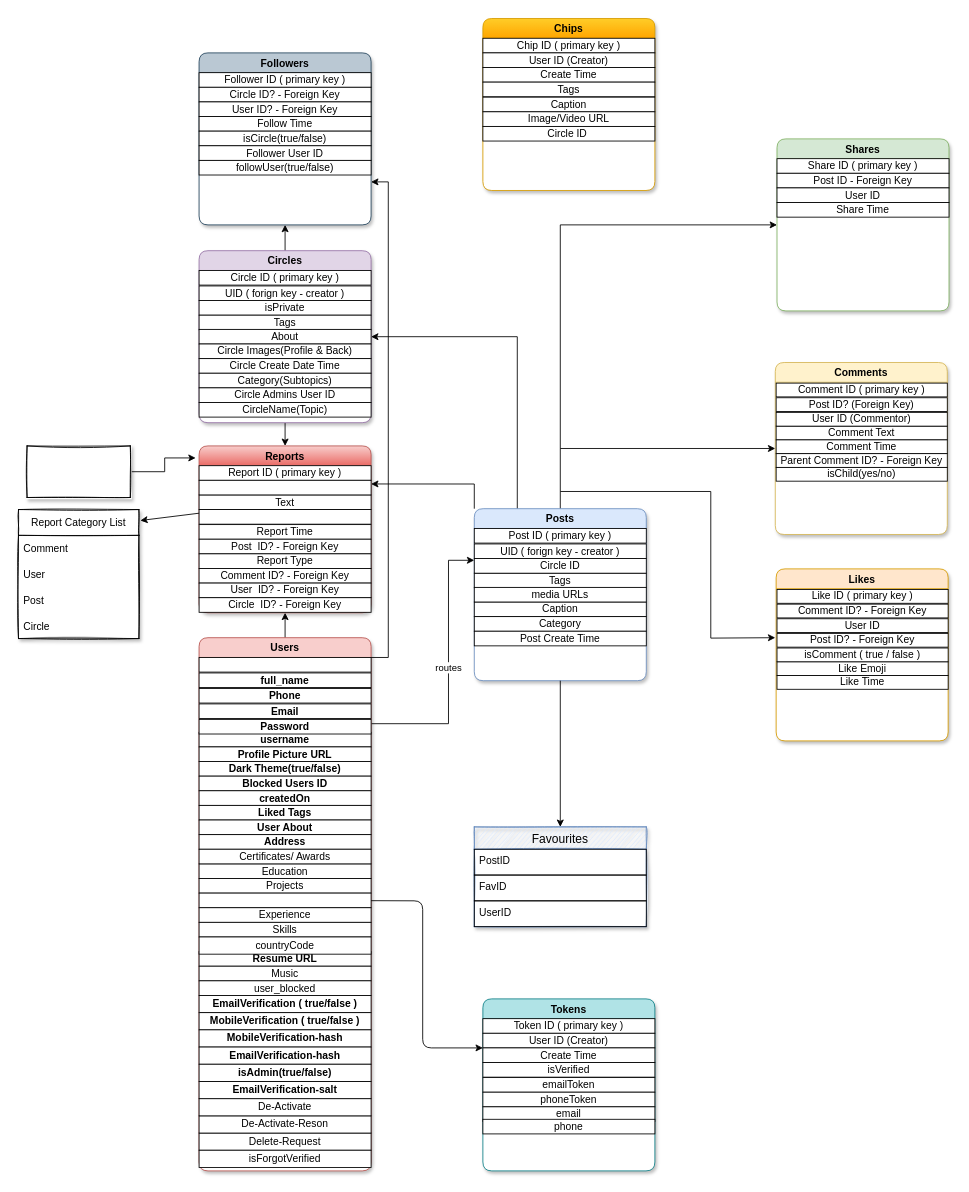
This 969x1192 diagram has some shape labels left out. Each missing label, with the centre of its shape:
DOB: [284,900]
Report Category: [284,516]
Report Media URLs: [284,487]
Reports is to track Illegal Activities: [79,473]
UID - ( primary key ): [284,664]
